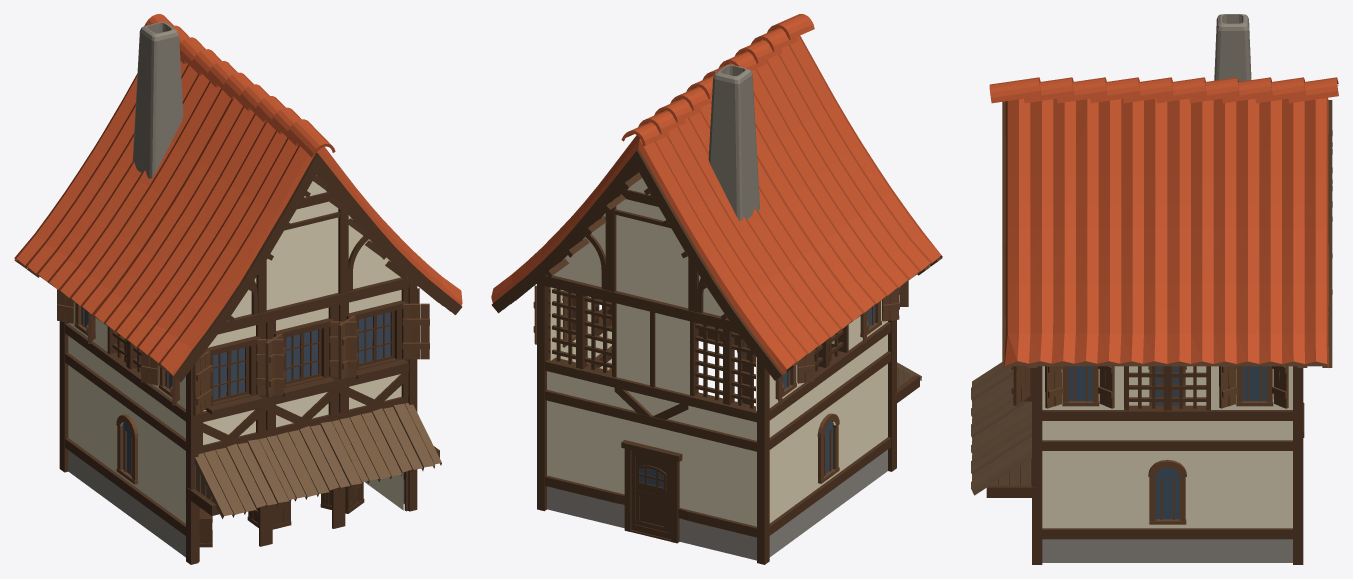
File: shop_arcade.obj
The picture shows the model from 3 angles, left to right: view 1: azimuth 30°, elevation 25°; view 2: azimuth 150°, elevation 25°; view 3: azimuth 270°, elevation 25°; orthographic projection. The views are drawn at different scales.
Bounding box in the file's own units: 8.25 × 11.8 × 8.46.
